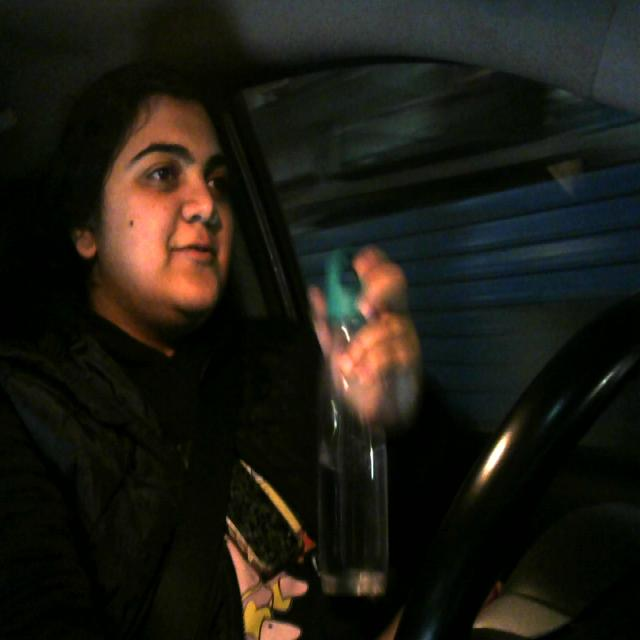drinking: (307, 246, 409, 632)
